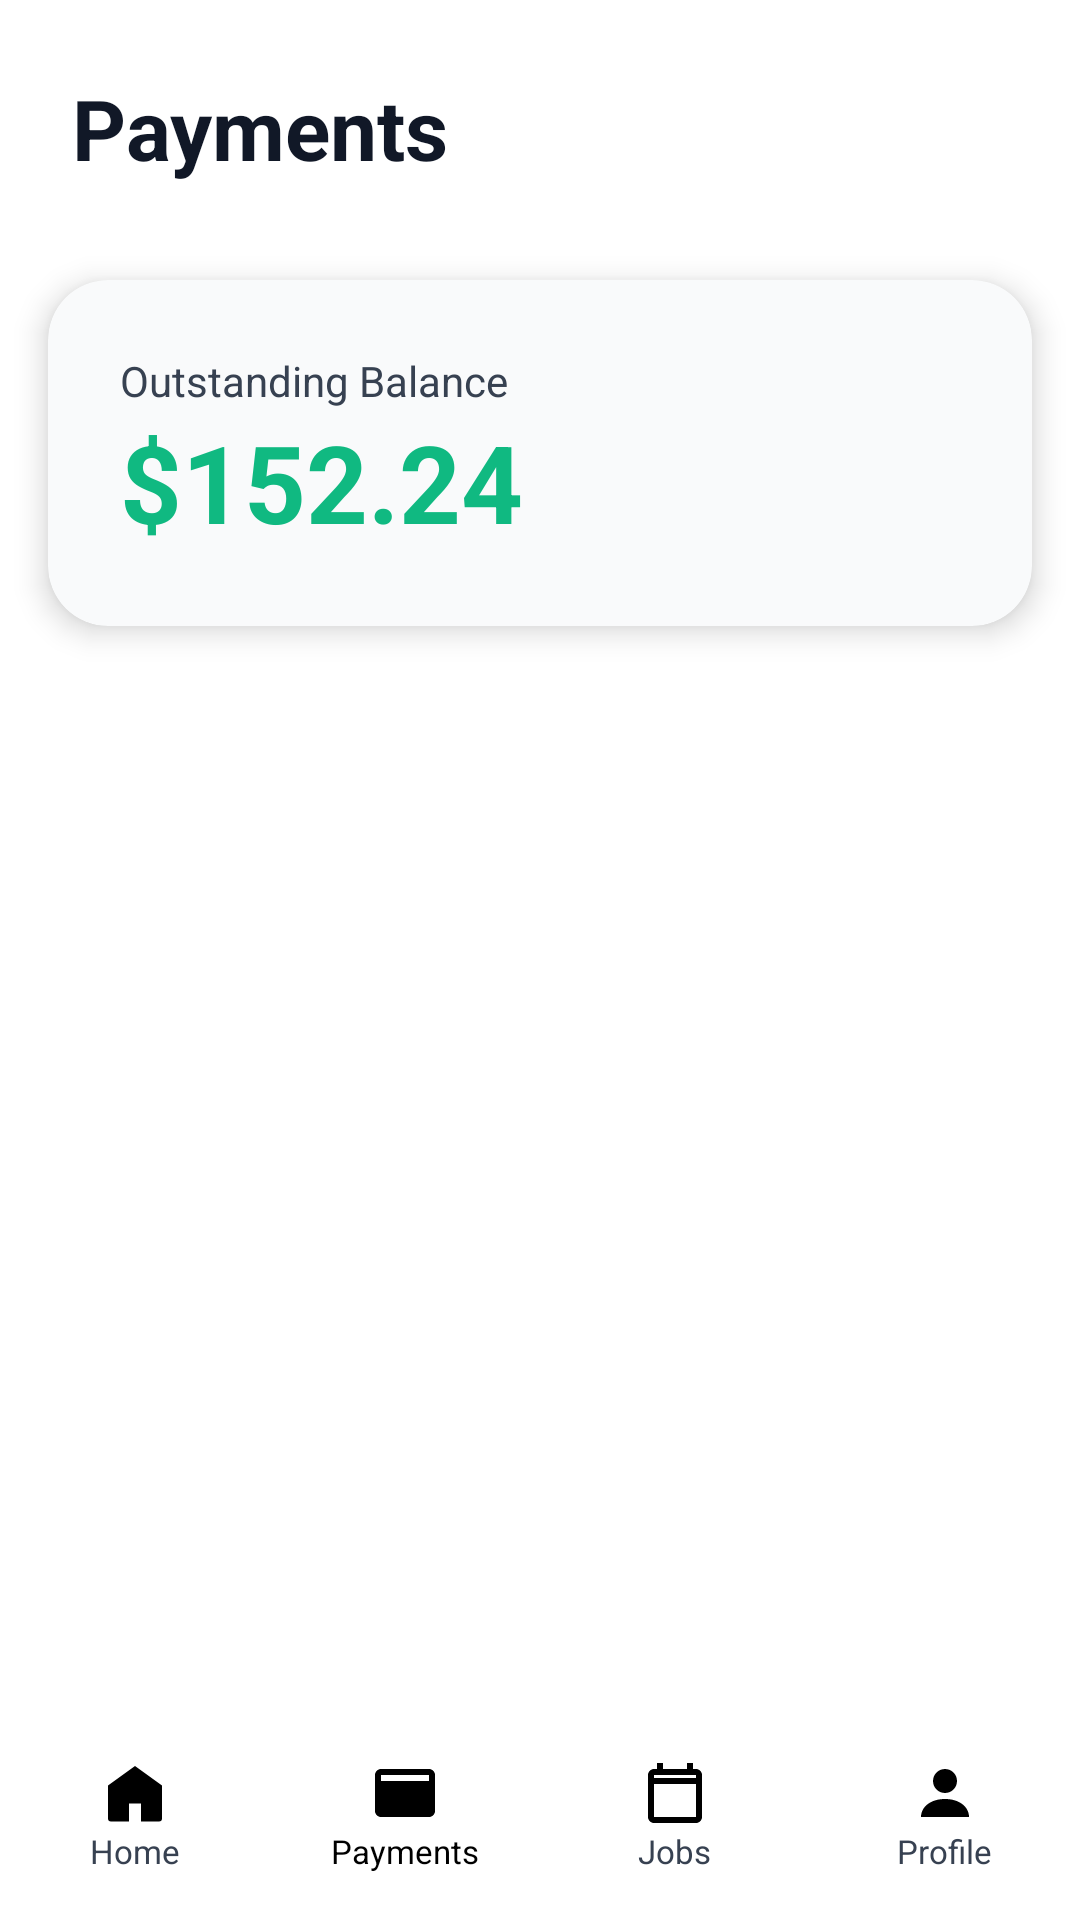

Icons on this 1080*1920 Android screen, each with its box as BBox(x1, y1, x2, y2):
calendar: BBox(648, 1763, 702, 1823)
